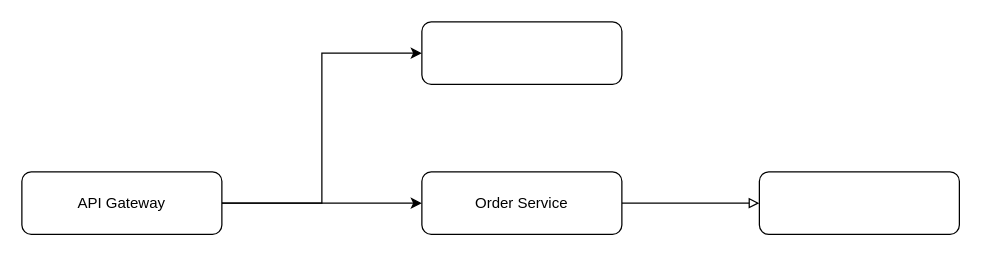
Some shapes in this 981 by 256 pixel diagram are drawn without their labels. The centre of each missing label's shape, as x and y in pixels:
"Book Service" goes at (x=521, y=52).
"Delivery Service" goes at (x=858, y=202).
